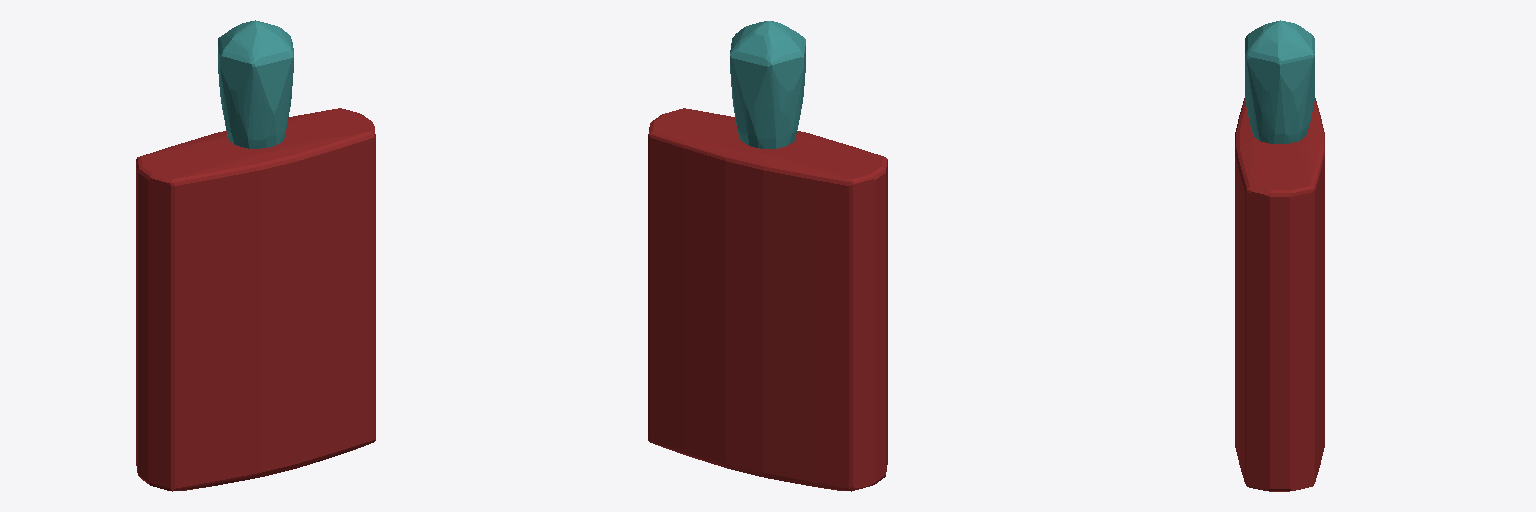
robot.urdf — root:
<robot name="root">
  <link name="bottle_body">
    <inertial>
      <origin xyz="0 0 0" rpy="0 0 0"/>
    </inertial>
    <mass value="1.00E-02"/>
    <visual>
      <origin xyz="0 0 0" rpy="0 0 0"/>
      <geometry>
        <mesh filename="core-bottle-3b26c9021d9e31a7ad8912880b776dcf-coacd_convex_piece_1.obj" scale="1.0000E-01 1.0000E-01 1.0000E-01"/>
      </geometry>
      <material name="">
        <color rgba="6.00E-01 2.00E-01 2.00E-01 1"/>
      </material>
    </visual>
    <collision>
      <origin xyz="0 0 0" rpy="0 0 0"/>
      <geometry>
        <mesh filename="core-bottle-3b26c9021d9e31a7ad8912880b776dcf-coacd_convex_piece_1.obj" scale="1.0000E-01 1.0000E-01 1.0000E-01"/>
      </geometry>
    </collision>
  </link>
  <link name="bottle_cap">
    <origin xyz="0 0 0.002" rpy="0 0 0"/>
    <mass value="1.00E-02"/>
    <visual>
      <origin xyz="0 0 0.002" rpy="0 0 0"/>
      <geometry>
        <mesh filename="core-bottle-3b26c9021d9e31a7ad8912880b776dcf-coacd_convex_piece_0.obj" scale="1.0000E-01 1.0000E-01 1.0000E-01"/>
      </geometry>
      <material name="">
        <color rgba="3.00E-01 6.00E-01 6.00E-01 1"/>
      </material>
    </visual>
    <collision>
      <origin xyz="0 0 0.002" rpy="0 0 0"/>
      <geometry>
        <mesh filename="core-bottle-3b26c9021d9e31a7ad8912880b776dcf-coacd_convex_piece_0.obj" scale="1.0000E-01 1.0000E-01 1.0000E-01"/>
      </geometry>
    </collision>
  </link>
  <joint name="bottle_cap_joint" type="revolute">
    <origin xyz="0 0 0" rpy="0 0 0"/>
    <parent link="bottle_body"/>
    <child link="bottle_cap"/>
    <axis xyz="0 0 1"/>
    <limit lower="0.00" upper="6.28"/>
    <dynamics damping="0.05"/>
  </joint>
</robot>

--- Facts derived from the render (not from the file) ---
3 views of the same robot in one strip: view 1: azimuth 30°, elevation 25°; view 2: azimuth 150°, elevation 25°; view 3: azimuth 270°, elevation 25° (orthographic).
Model root with 2 links and 1 joints (1 revolute), rooted at bottle_body, posed every joint at zero.
Links seen in each view (by area): view 1: bottle_body, bottle_cap; view 2: bottle_body, bottle_cap; view 3: bottle_body, bottle_cap.
Link boxes in pixels (box(x1,y1,x2,y2)): bottle_body: box(136, 108, 375, 491); bottle_cap: box(218, 20, 293, 148); bottle_body: box(648, 108, 887, 491); bottle_cap: box(730, 21, 805, 148); bottle_body: box(1235, 98, 1324, 491); bottle_cap: box(1245, 20, 1314, 143).
Bounding box of the posed robot: 0.0956 × 0.0344 × 0.1779 m (x, y, z).
Meshes: 2 distinct files referenced, 2 mesh visuals loaded (2 OBJ).